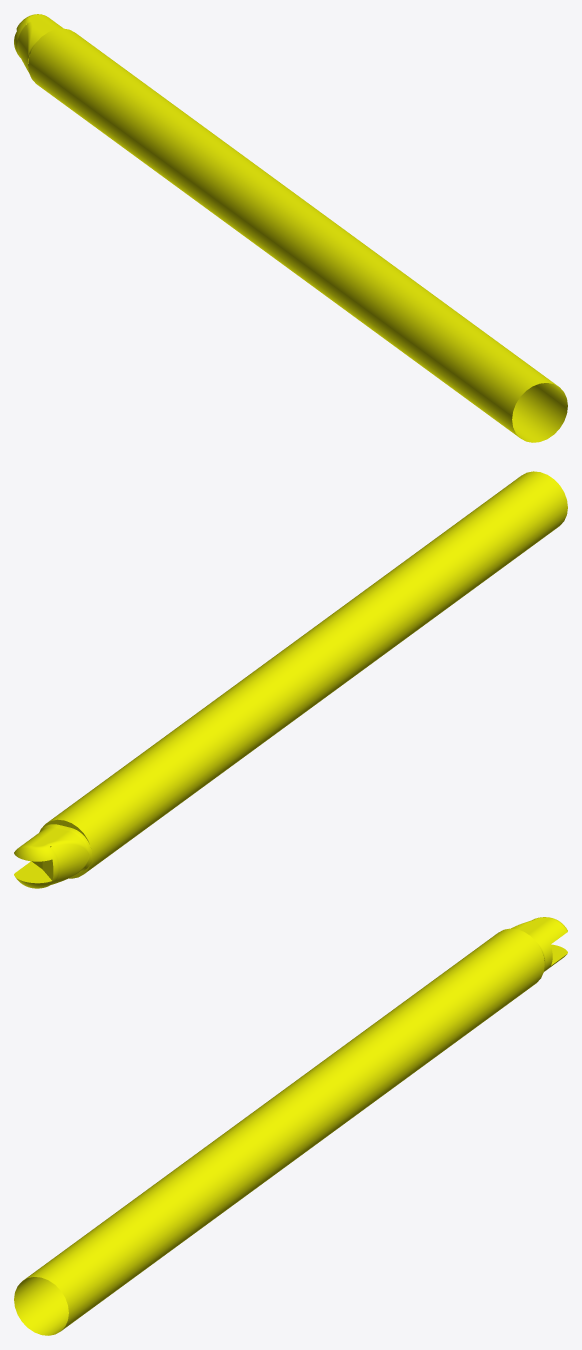
Rendered from body_2.obj.
3 views of the same model, one above another, from view 1: azimuth 30°, elevation 25°; view 2: azimuth 150°, elevation 25°; view 3: azimuth 330°, elevation 25° (orthographic).
Parts seen in each view (by area): view 1: 3DGeom-4; view 2: 3DGeom-4; view 3: 3DGeom-4.
Part boxes in pixels (<box>): 3DGeom-4: <box>14,14,567,442</box>; 3DGeom-4: <box>14,471,567,888</box>; 3DGeom-4: <box>14,917,567,1335</box>.
Bounding box in the file's own units: 0.08 × 0.08 × 1.28.
